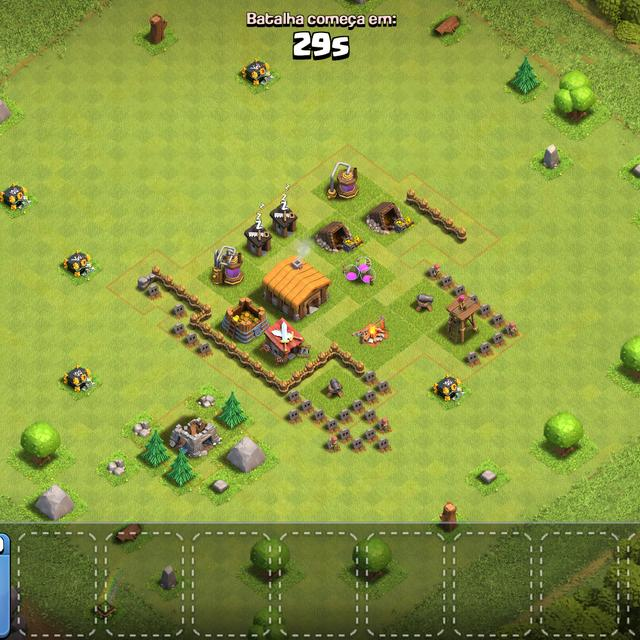Arqueira: (443, 292, 482, 344)
Canhao: (412, 288, 436, 314), (323, 375, 346, 400)
